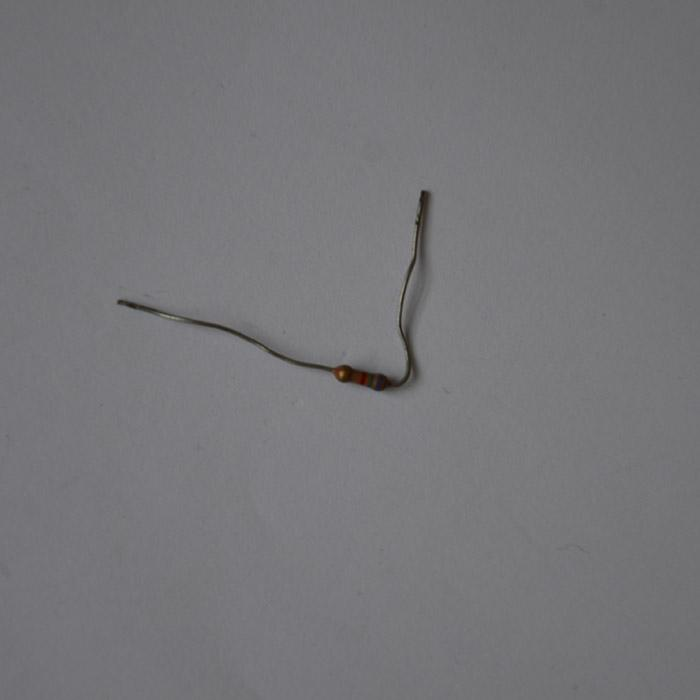resistor: (332, 363, 388, 391)
